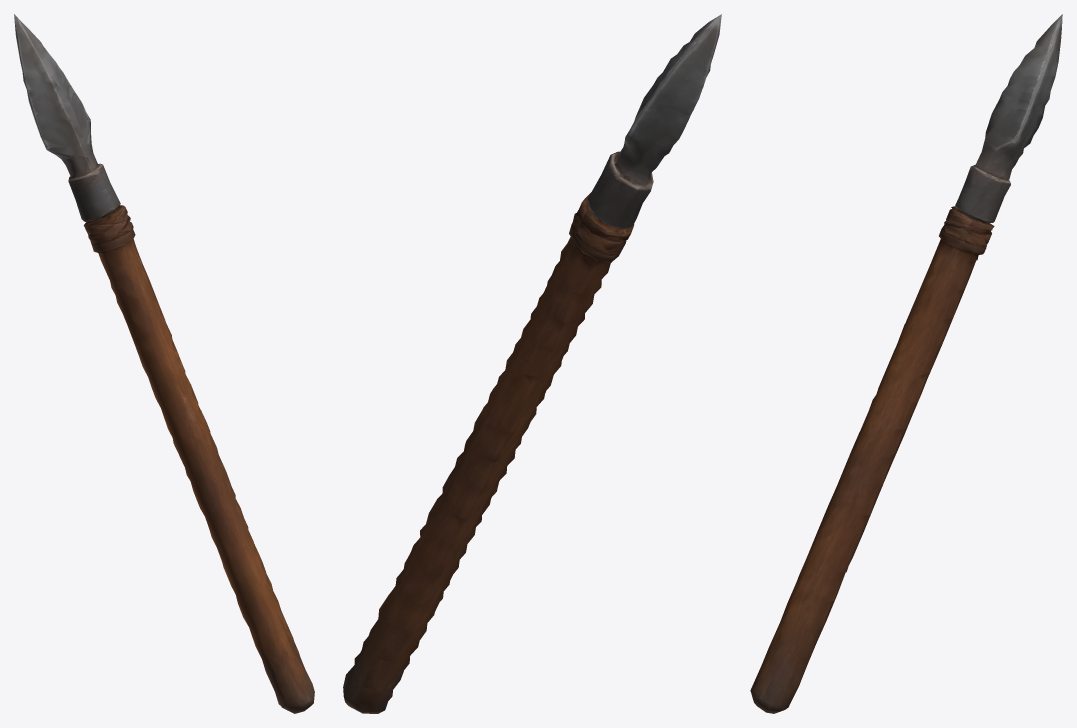
Rendered from lanza-eydis.glb.
3 views of the same model, side by side, from view 1: azimuth 30°, elevation 25°; view 2: azimuth 210°, elevation 25°; view 3: azimuth 270°, elevation 25° (orthographic). The views are drawn at different scales.
Visible parts, largest first — view 1: tripo_node_19145261-36ac-4ba5-b56c-78de6f909d4f; view 2: tripo_node_19145261-36ac-4ba5-b56c-78de6f909d4f; view 3: tripo_node_19145261-36ac-4ba5-b56c-78de6f909d4f.
Part boxes in pixels (left/top/right/bottom): tripo_node_19145261-36ac-4ba5-b56c-78de6f909d4f: left=14, top=14, right=314, bottom=713; tripo_node_19145261-36ac-4ba5-b56c-78de6f909d4f: left=343, top=14, right=721, bottom=713; tripo_node_19145261-36ac-4ba5-b56c-78de6f909d4f: left=750, top=14, right=1062, bottom=713.
Size of the model in its own units: 0.2615 by 0.9836 by 0.441.
Materials: 1 (1 with a texture image).
